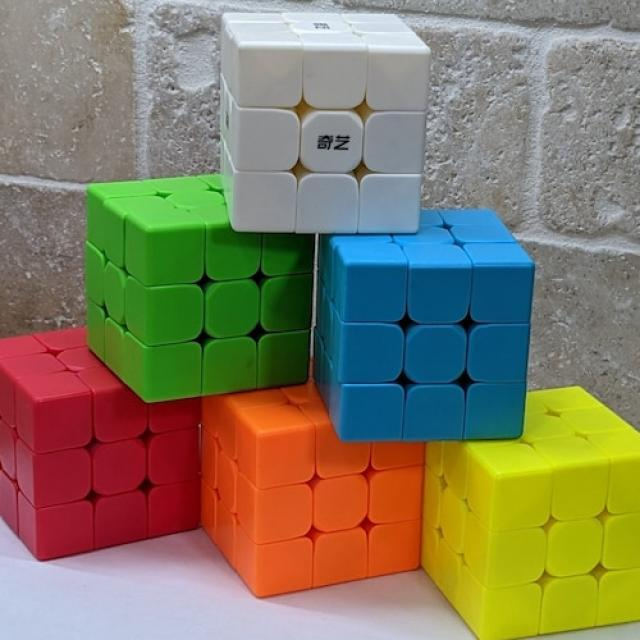Rub: (320, 194, 538, 446), (80, 173, 316, 404), (428, 379, 636, 640), (216, 5, 434, 240), (201, 386, 426, 600), (0, 324, 201, 561)
